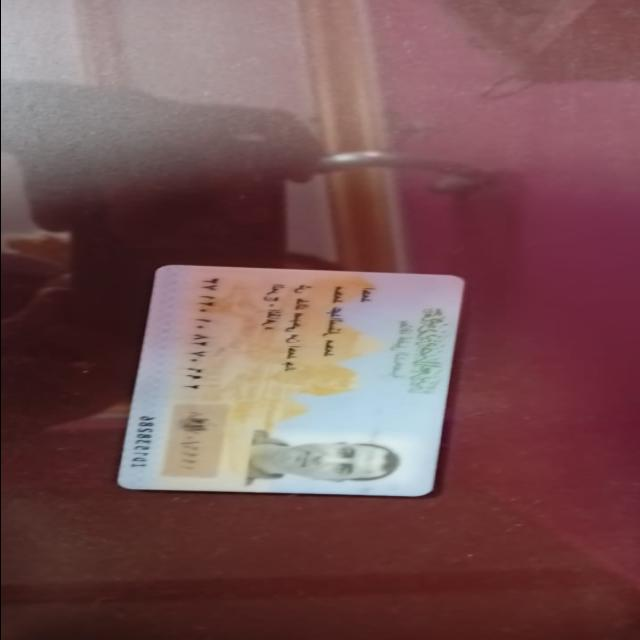id_card: (107, 258, 476, 499)
